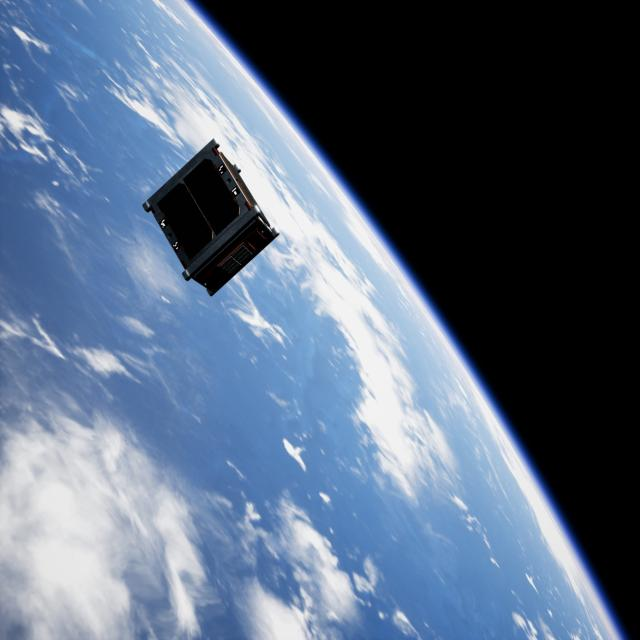medium_debris: (142, 137, 285, 297)
